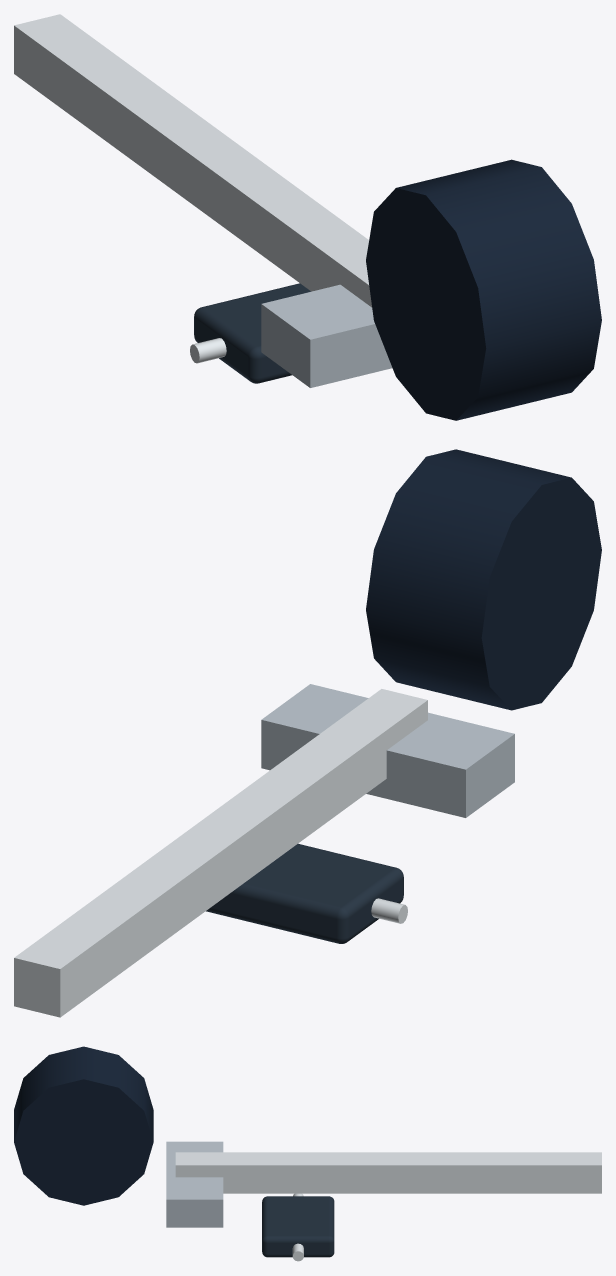
The model's file is rower.glb.
3 renders of one model, top to bottom at view 1: azimuth 30°, elevation 25°; view 2: azimuth 150°, elevation 25°; view 3: azimuth 270°, elevation 25°, orthographic. The views are drawn at different scales.
Parts seen in each view (by area): view 1: fan, rail, feet, rowingSeat, grip; view 2: fan, rail, feet, rowingSeat; view 3: fan, rail, rowingSeat, feet.
Boxes of the visible parts, x1,y1,x2,y2 form: fan: (366, 159, 601, 420); rail: (14, 14, 371, 307); feet: (261, 284, 392, 387); rowingSeat: (194, 283, 310, 383); grip: (190, 338, 226, 363); fan: (366, 449, 601, 710); rail: (14, 689, 427, 1017); feet: (261, 684, 514, 817); rowingSeat: (206, 843, 403, 943); fan: (14, 1046, 153, 1205); rail: (175, 1152, 601, 1193); rowingSeat: (262, 1196, 334, 1257); feet: (166, 1141, 223, 1227).
Bounding box in the file's own units: 0.54 × 0.745 × 2.27.
